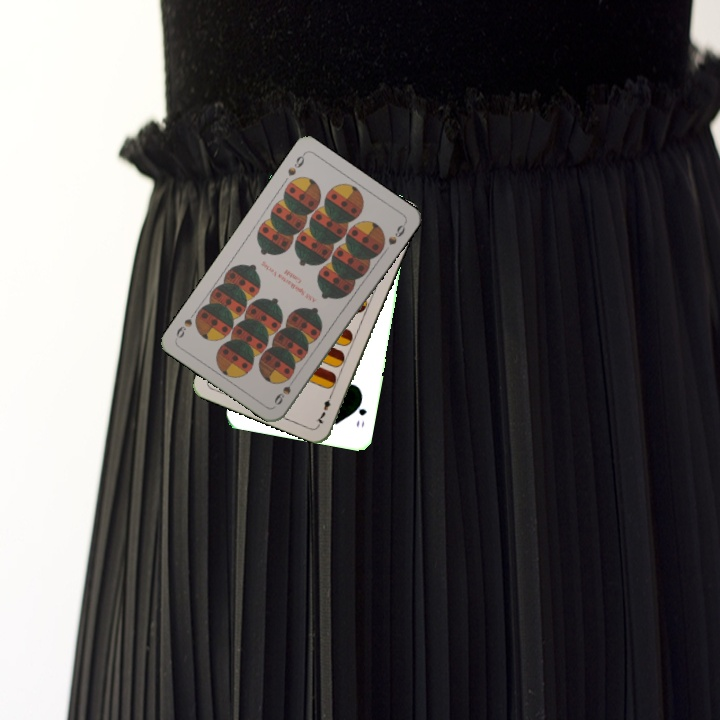E7: (312, 389, 335, 428)
GO: (352, 394, 369, 430)
S9: (270, 373, 299, 408), (284, 149, 307, 178)
